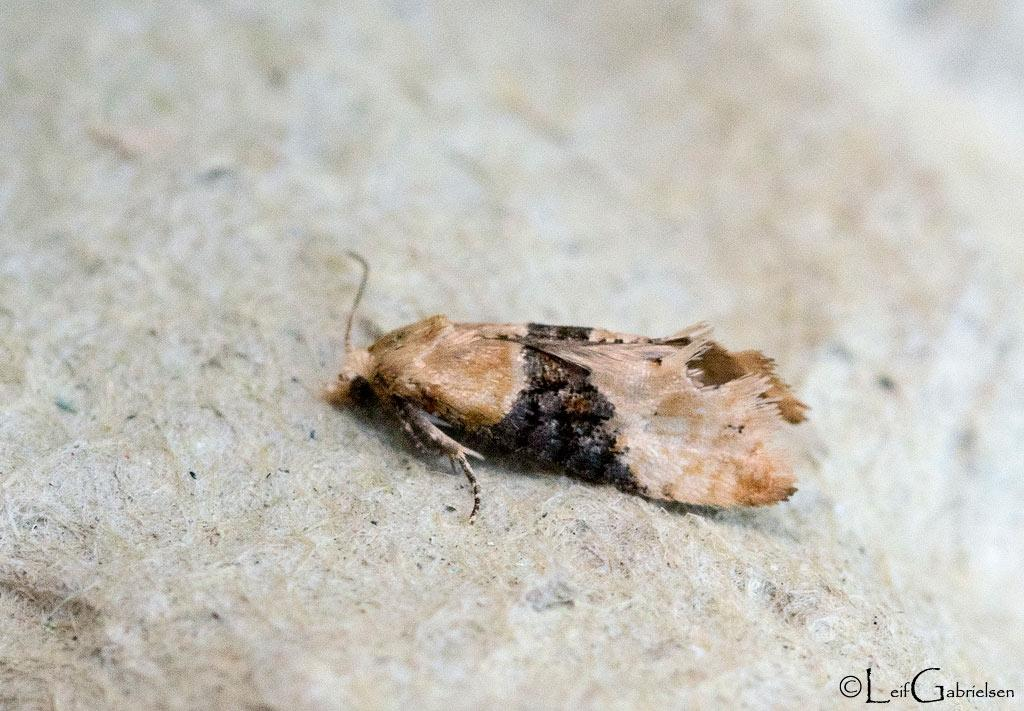Eupoecilia Ambiguella: (326, 248, 813, 525)
